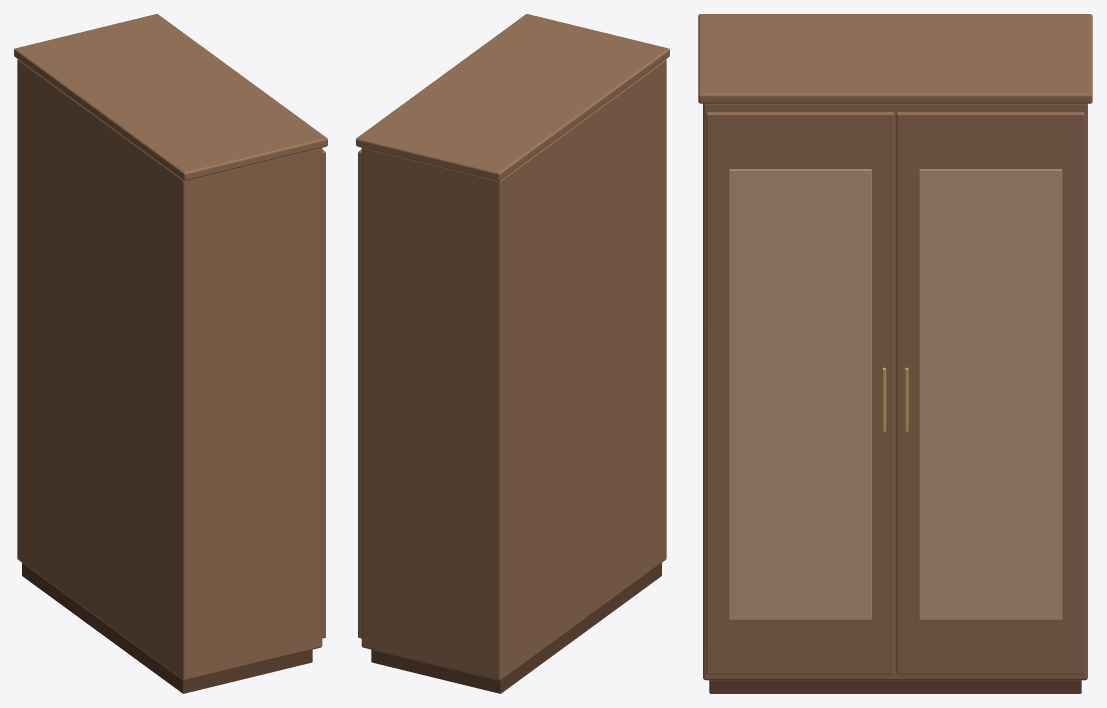
Rendered from wardrobe.fbx.
3 renders of one model, left to right at view 1: azimuth 30°, elevation 25°; view 2: azimuth 150°, elevation 25°; view 3: azimuth 270°, elevation 25°, orthographic. The views are drawn at different scales.
Parts seen in each view (by area): view 1: wardrobe, Wardrobe_DoorL; view 2: wardrobe, Wardrobe_DoorR; view 3: Wardrobe_DoorL, Wardrobe_DoorR, wardrobe.
Boxes of the visible parts, left/top/right/bottom form: wardrobe: left=14, top=14, right=327, bottom=693; Wardrobe_DoorL: left=322, top=149, right=325, bottom=638; wardrobe: left=356, top=14, right=669, bottom=693; Wardrobe_DoorR: left=358, top=149, right=361, bottom=638; Wardrobe_DoorL: left=706, top=112, right=894, bottom=674; Wardrobe_DoorR: left=896, top=112, right=1084, bottom=674; wardrobe: left=698, top=14, right=1092, bottom=693.
Bounding box in the file's own units: 0.641 × 2.09 × 1.23.
